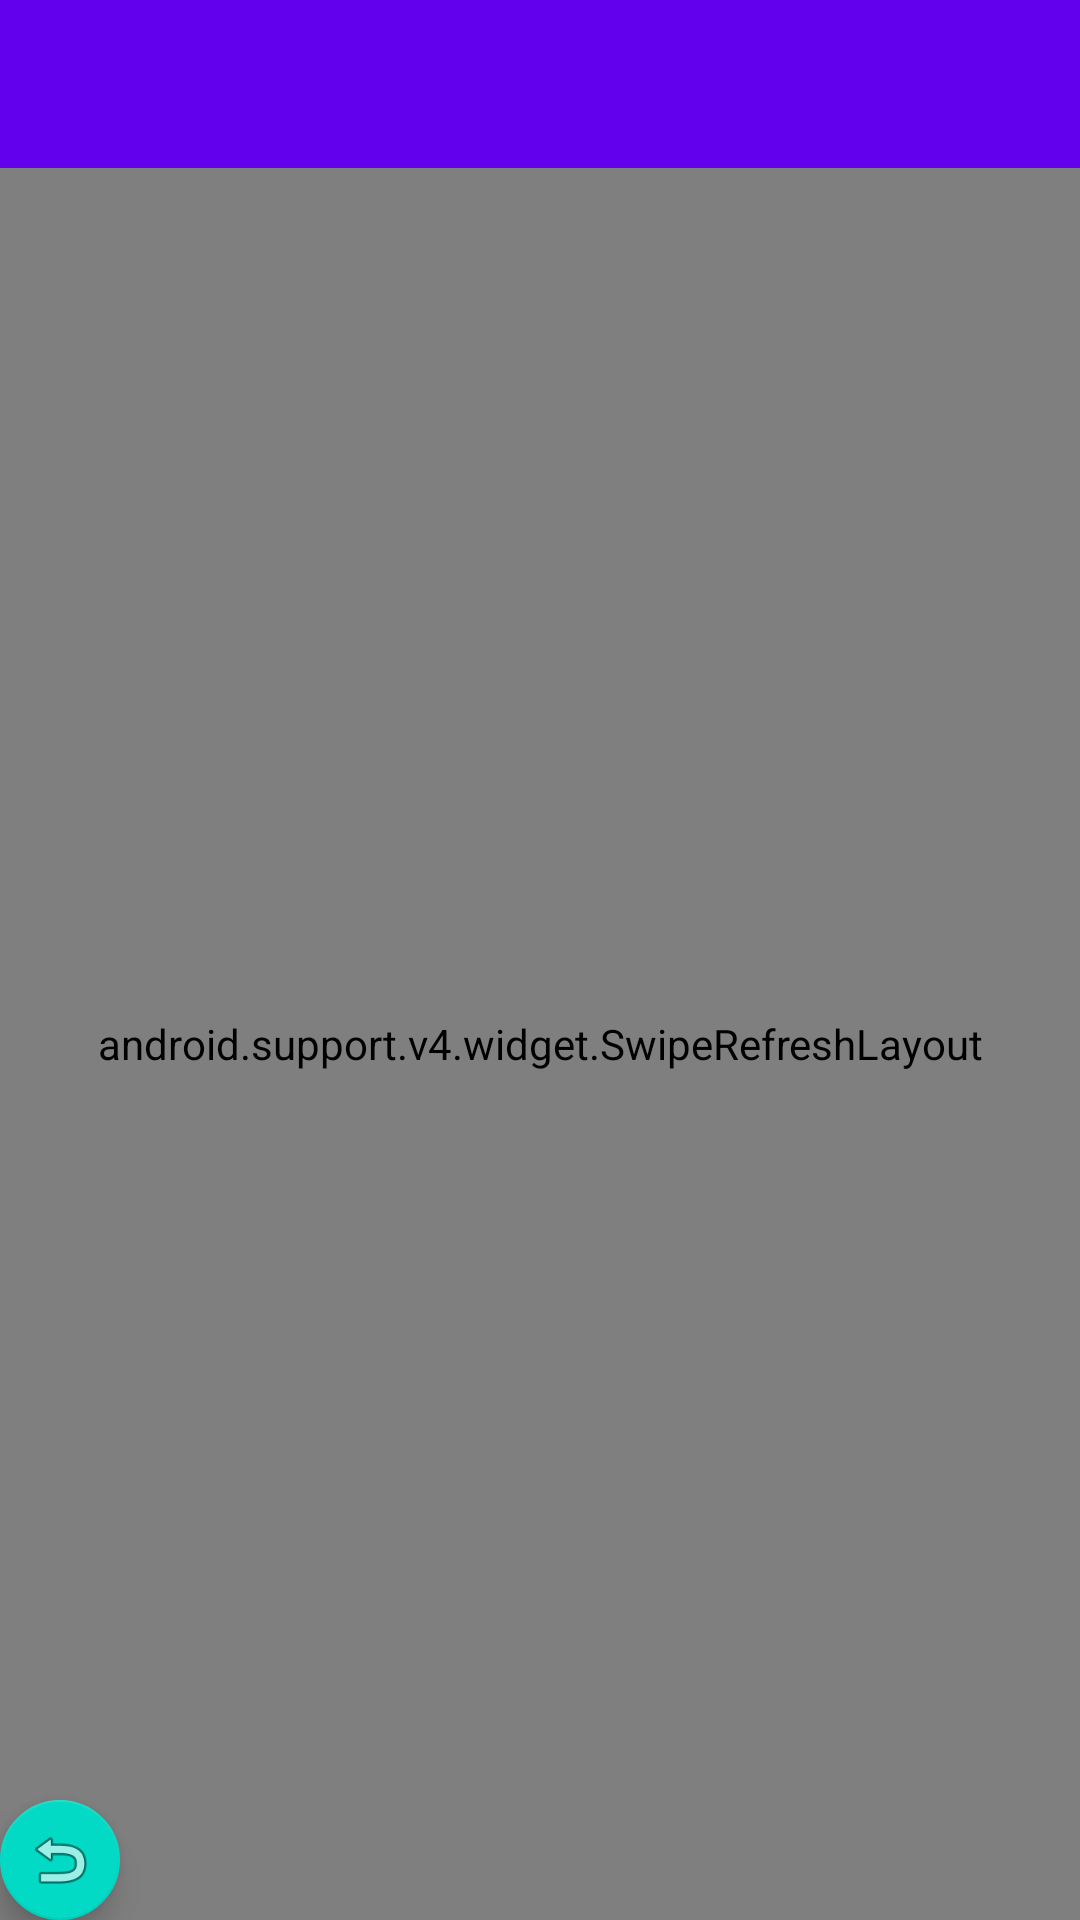

Named icons in this screenshot (1080x1920) and their centers, (x,y):
revert: (60,1860)
